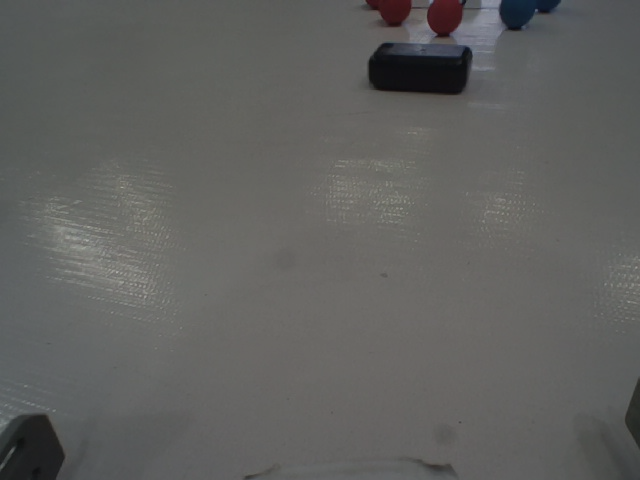black: (364, 41, 477, 98)
blue: (501, 1, 538, 33), (532, 1, 563, 12)
red: (426, 1, 462, 35), (379, 1, 411, 24)
